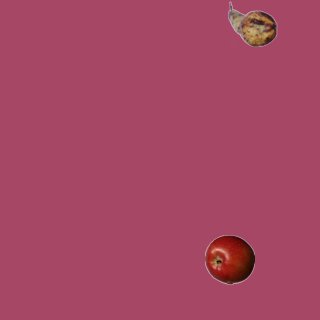Apple Braeburn: (204, 234, 254, 284)
Pear Abate: (227, 0, 277, 49)
